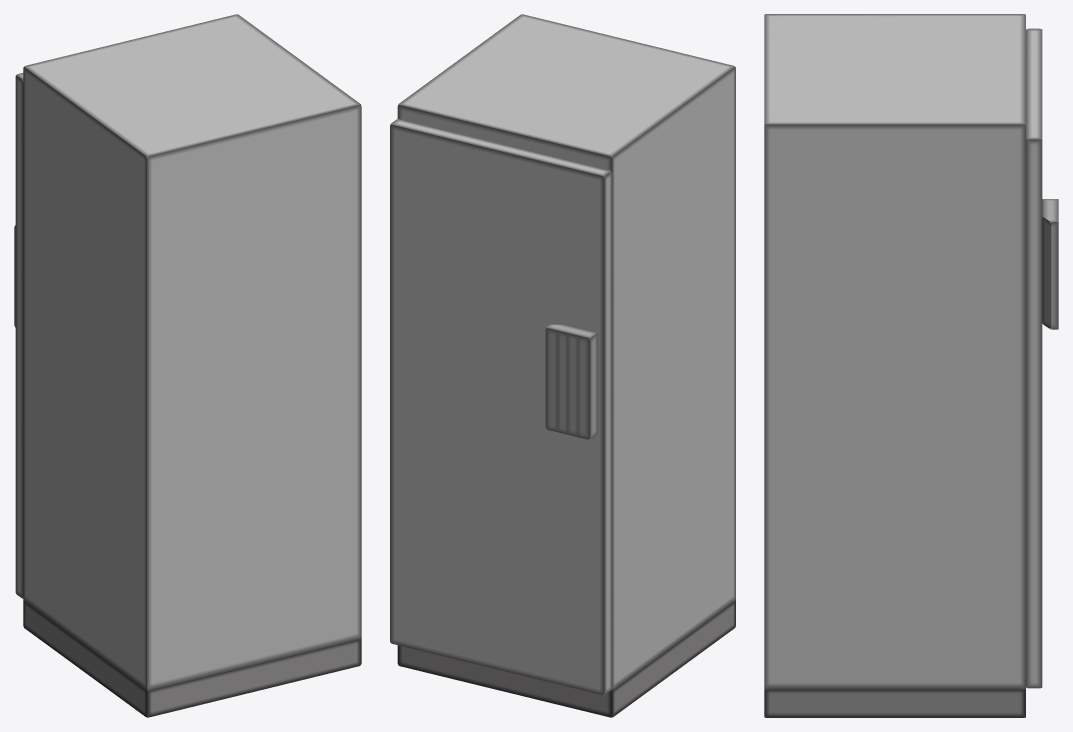
Rendered from fridge.fbx.
3 renders of one model, left to right at view 1: azimuth 30°, elevation 25°; view 2: azimuth 150°, elevation 25°; view 3: azimuth 270°, elevation 25°, orthographic. The views are drawn at different scales.
Parts seen in each view (by area): view 1: cube, cube_3; view 2: cube_3, cube; view 3: cube, cube_3.
Part boxes in pixels (bbox=[...]): cube: bbox=[23, 14, 361, 717]; cube_3: bbox=[14, 73, 23, 598]; cube_3: bbox=[390, 119, 612, 695]; cube: bbox=[397, 14, 735, 717]; cube: bbox=[764, 14, 1025, 717]; cube_3: bbox=[1026, 28, 1058, 688].
Size of the model in its own units: 100 by 250 by 112.
1 material, 1 textured.
